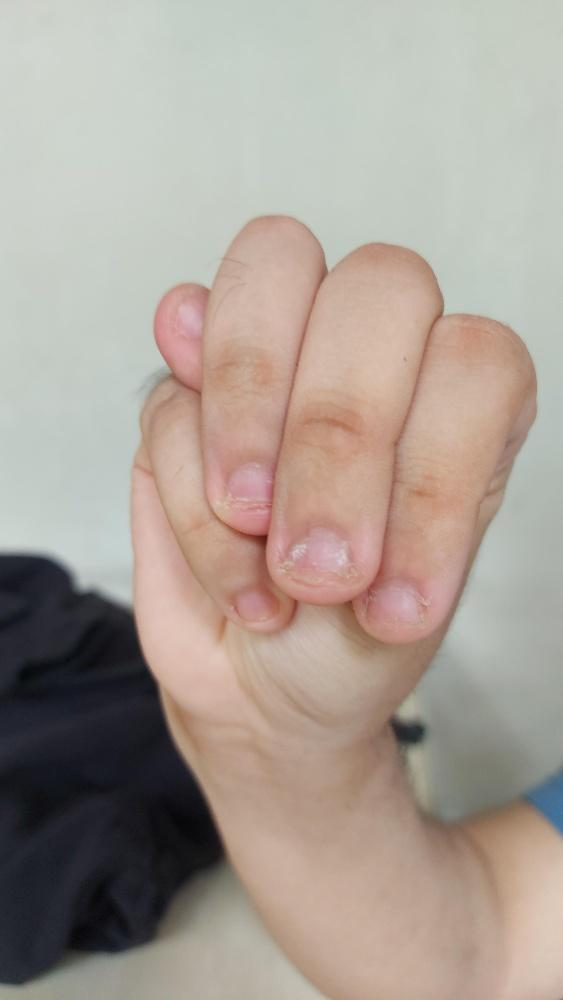m: (128, 213, 537, 759)
